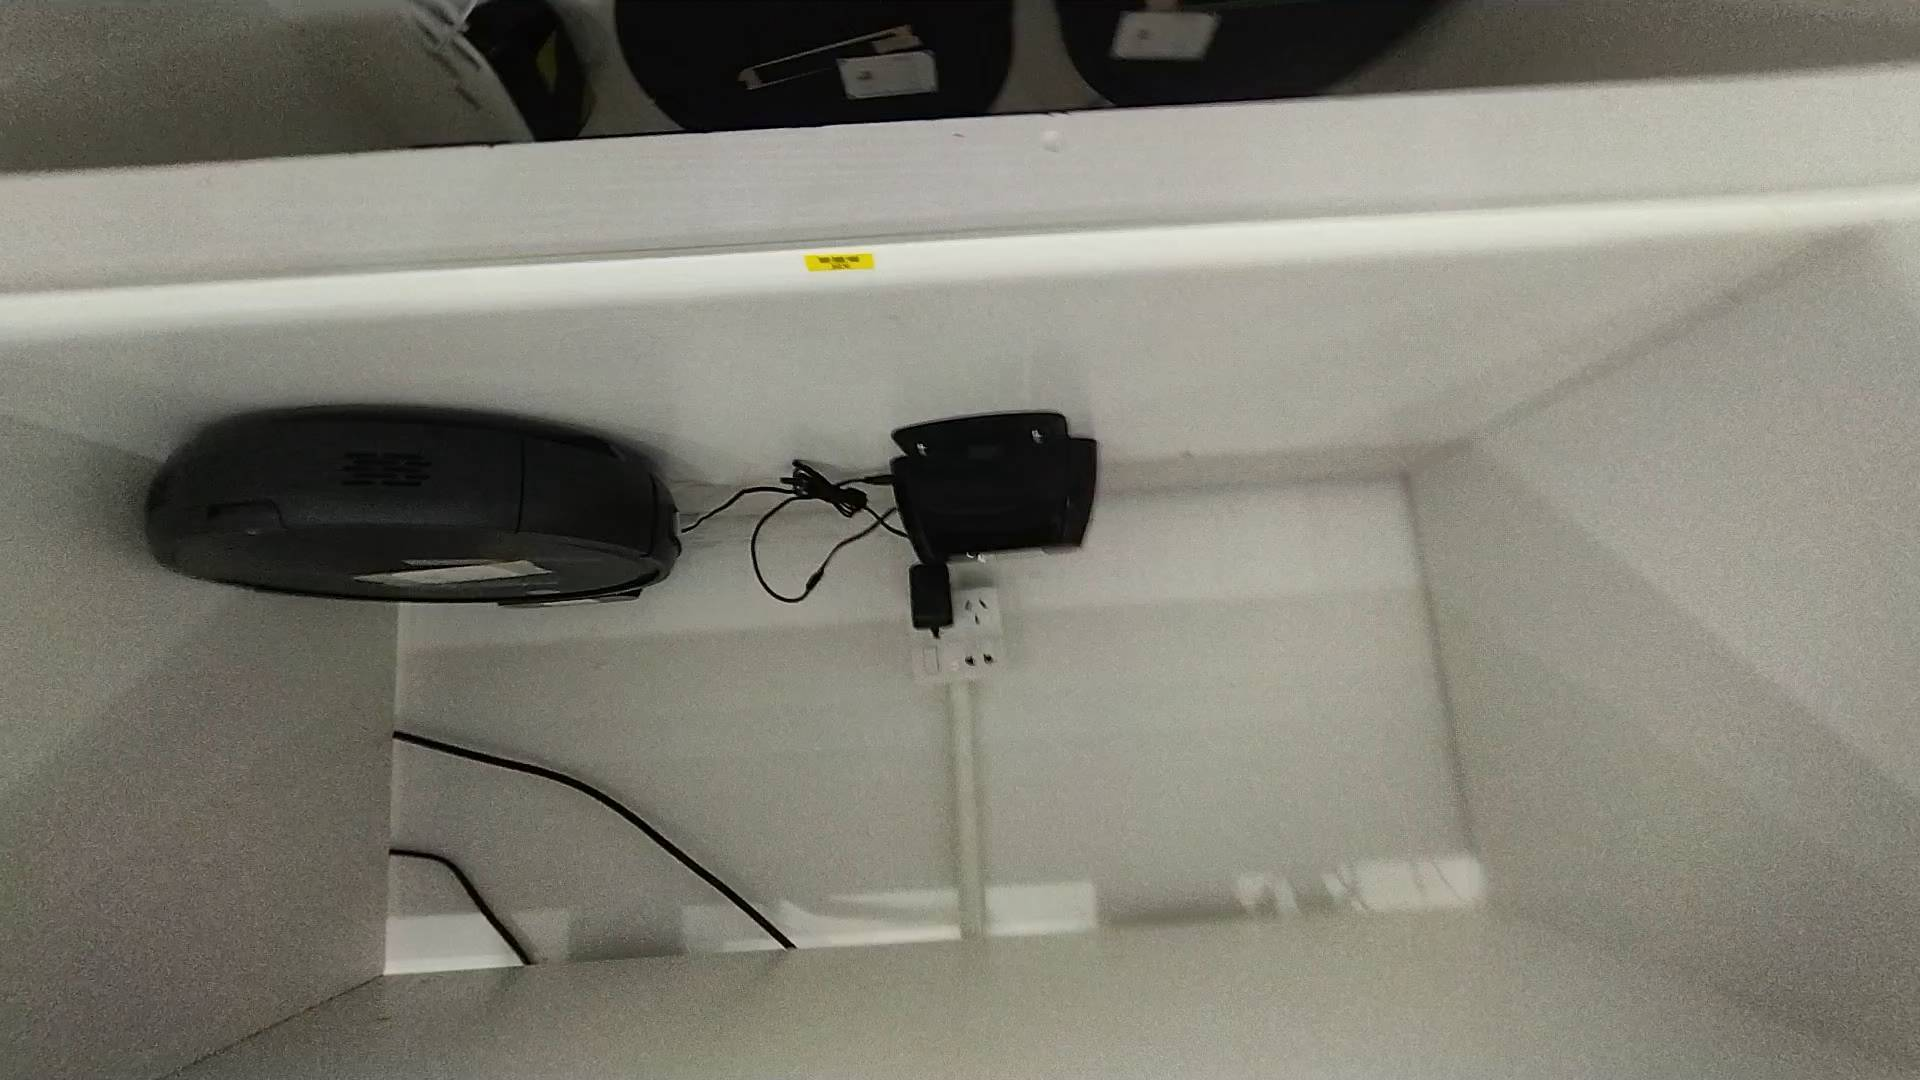recharge seat: (881, 409, 1106, 560)
